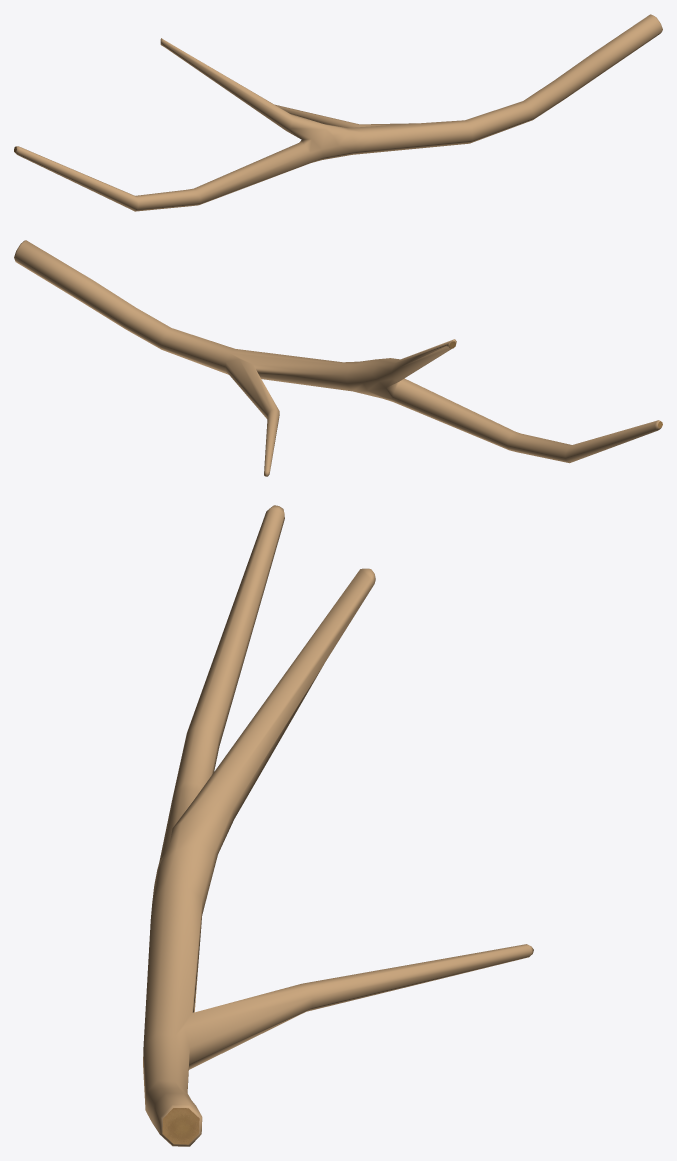
The model's file is Branch_2.fbx.
The picture shows the model from 3 angles, top to bottom: view 1: azimuth 30°, elevation 25°; view 2: azimuth 150°, elevation 25°; view 3: azimuth 270°, elevation 25°; orthographic projection. The views are drawn at different scales.
Visible parts, largest first — view 1: Cube.081; view 2: Cube.081; view 3: Cube.081.
Part boxes in pixels (bbox=[...]): Cube.081: bbox=[14, 14, 662, 211]; Cube.081: bbox=[14, 240, 662, 476]; Cube.081: bbox=[143, 505, 533, 1146].
Bounding box in the file's own units: 244 × 49.44 × 66.51.
